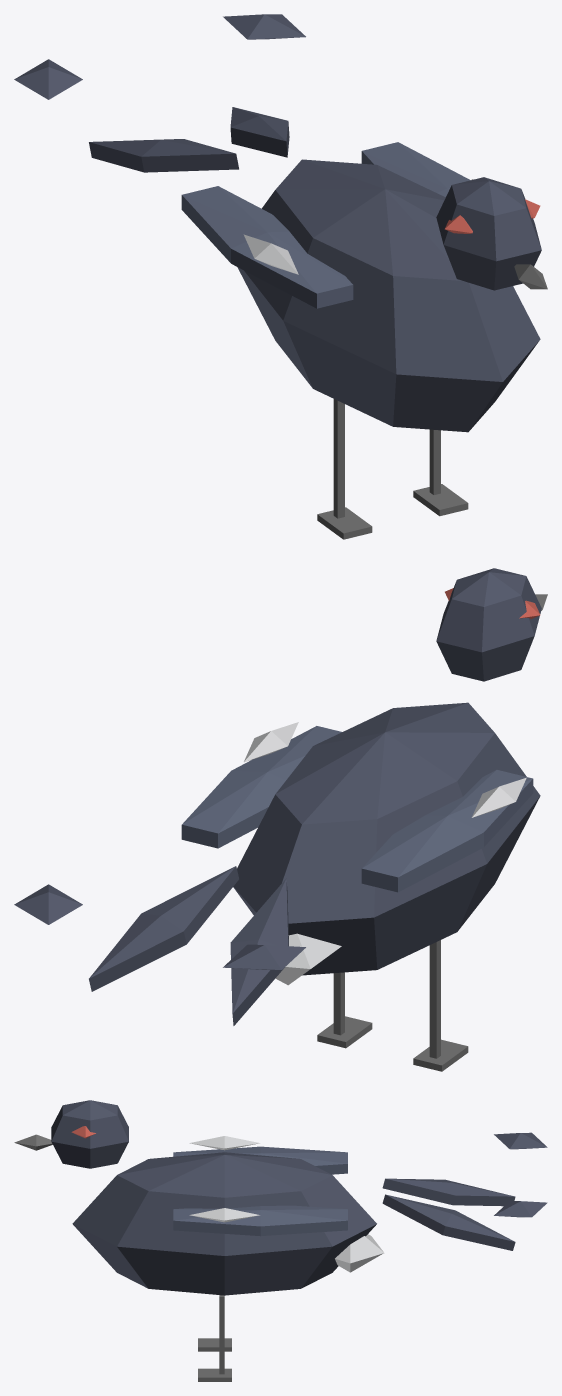
Rendered from teeri.glb.
3 views of the same model, one above another, from view 1: azimuth 30°, elevation 25°; view 2: azimuth 150°, elevation 25°; view 3: azimuth 270°, elevation 25° (orthographic). The views are drawn at different scales.
Visible parts, largest first — view 1: runko, paa, siipi_o, pyrsto, siipi_v, jalka_o, jalka_v; view 2: runko, pyrsto, siipi_o, paa, siipi_v, jalka_o, jalka_v; view 3: runko, pyrsto, paa, siipi_v, siipi_o, jalka_v, jalka_o.
Boxes of the visible parts, left/top/right/bottom form: runko: left=237, top=159, right=540, bottom=432; paa: left=436, top=177, right=547, bottom=290; siipi_o: left=181, top=186, right=353, bottom=308; pyrsto: left=14, top=14, right=305, bottom=172; siipi_v: left=361, top=142, right=473, bottom=197; jalka_o: left=317, top=399, right=372, bottom=539; jalka_v: left=413, top=429, right=468, bottom=516; runko: left=233, top=702, right=540, bottom=975; pyrsto: left=14, top=866, right=341, bottom=1025; siipi_o: left=361, top=770, right=533, bottom=892; paa: left=436, top=568, right=547, bottom=681; siipi_v: left=181, top=722, right=341, bottom=848; jalka_o: left=413, top=940, right=468, bottom=1071; jalka_v: left=317, top=972, right=372, bottom=1048; runko: left=72, top=1152, right=376, bottom=1295; pyrsto: left=335, top=1132, right=547, bottom=1272; paa: left=14, top=1100, right=128, bottom=1168; siipi_v: left=173, top=1205, right=347, bottom=1236; siipi_o: left=173, top=1136, right=347, bottom=1174; jalka_v: left=198, top=1295, right=231, bottom=1381; jalka_o: left=198, top=1338, right=231, bottom=1351.
Bounding box in the file's own units: 0.2233 × 0.322 × 0.5953.
